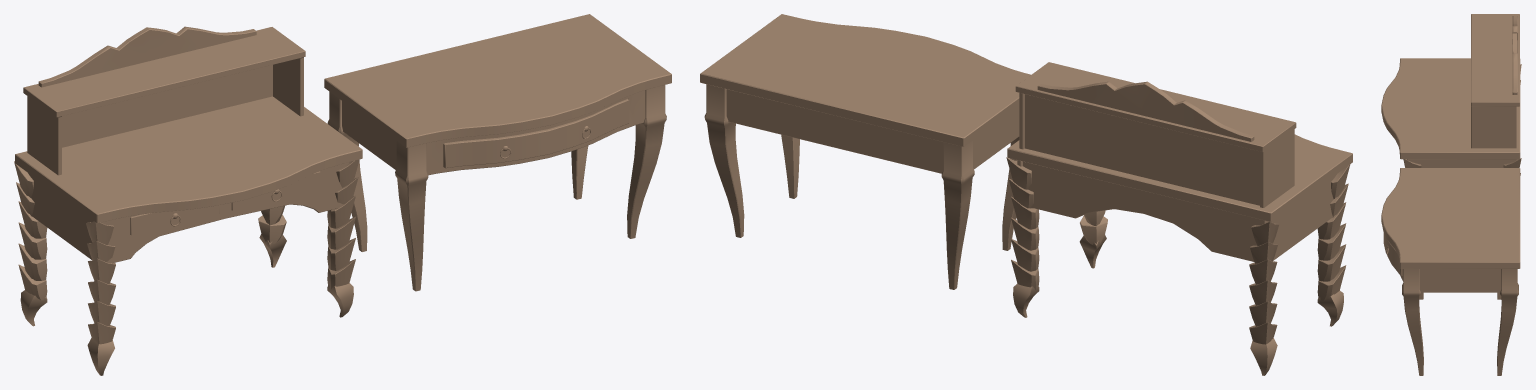
Rendered from dfk_desks.fbx.
3 views of the same model, side by side, from view 1: azimuth 30°, elevation 25°; view 2: azimuth 150°, elevation 25°; view 3: azimuth 270°, elevation 25° (orthographic). The views are drawn at different scales.
Parts seen in each view (by area): view 1: Desk01, Desk01.004, Desk01.003, Desk01.001, Desk01.002; view 2: Desk01, Desk01.004; view 3: Desk01.004, Desk01, Desk01.003.
Part boxes in pixels (x1,y1,x2,y2): Desk01: [14, 26, 362, 375]; Desk01.004: [324, 14, 671, 291]; Desk01.003: [443, 99, 629, 168]; Desk01.001: [130, 205, 219, 235]; Desk01.002: [231, 171, 320, 210]; Desk01: [1006, 62, 1352, 375]; Desk01.004: [700, 14, 1030, 289]; Desk01.004: [1381, 168, 1520, 375]; Desk01: [1381, 14, 1521, 175]; Desk01.003: [1383, 233, 1402, 275].
Size of the model in its own units: 2.96 by 1.32 by 0.8604.
